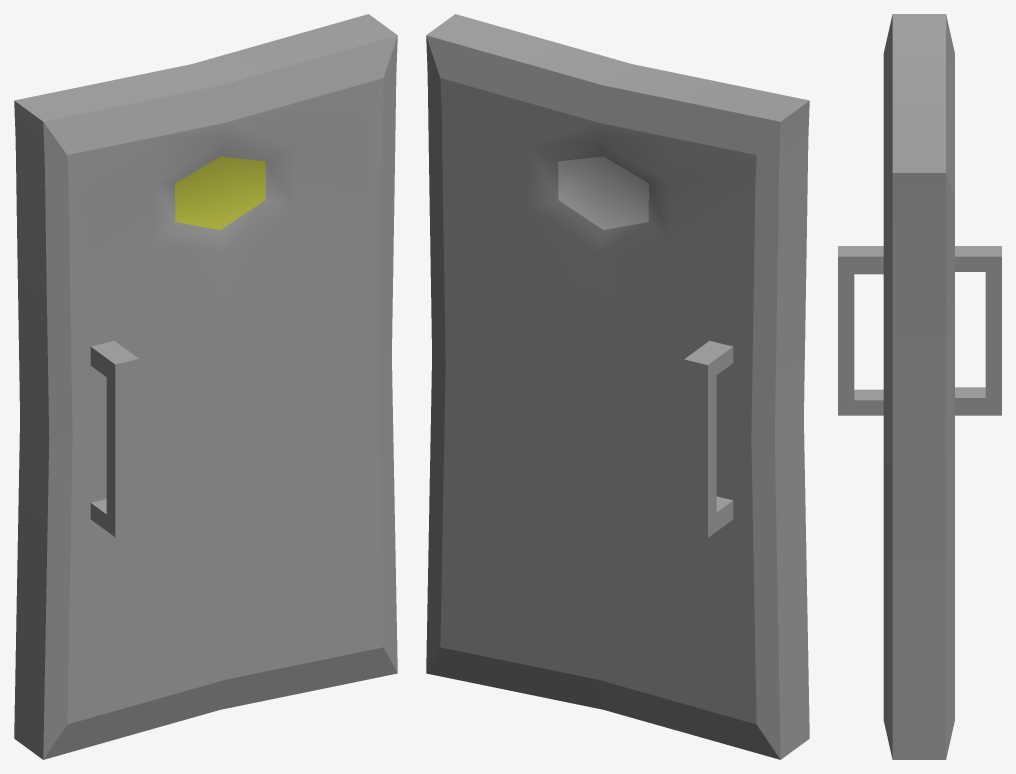
Rendered from SM_BathroomDoor.fbx.
3 views of the same model, side by side, from view 1: azimuth 30°, elevation 25°; view 2: azimuth 150°, elevation 25°; view 3: azimuth 270°, elevation 25° (orthographic). The views are drawn at different scales.
Visible parts, largest first — view 1: SM_BathroomDoor; view 2: SM_BathroomDoor; view 3: SM_BathroomDoor.
Boxes of the visible parts, x1=… form: SM_BathroomDoor: x1=14, y1=14, x2=397, y2=759; SM_BathroomDoor: x1=426, y1=14, x2=809, y2=759; SM_BathroomDoor: x1=838, y1=14, x2=1001, y2=759.
Bounding box in the file's own units: 209 × 360 × 91.
